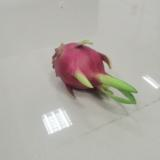pitaya: (53, 40, 136, 106)
